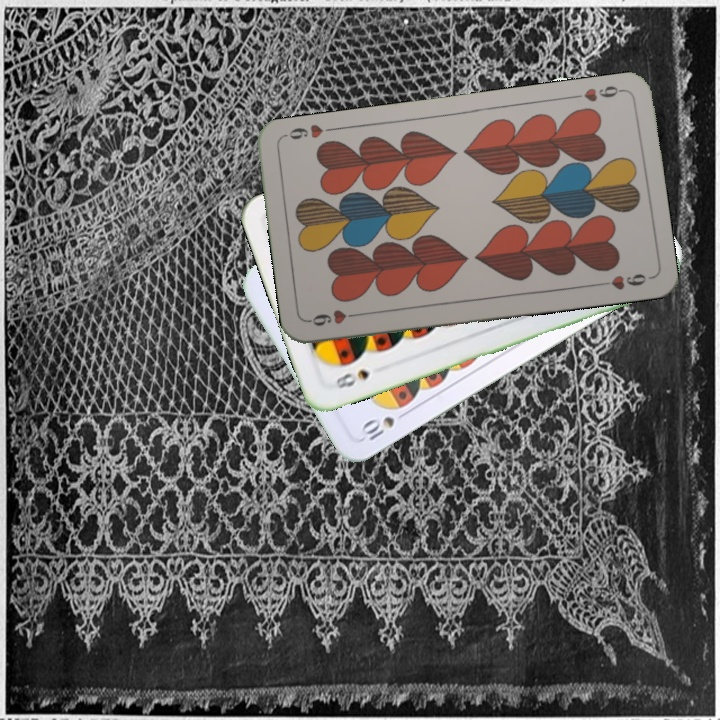H9: (305, 305, 364, 329), (568, 81, 627, 105)
S10: (357, 406, 412, 445)
S8: (332, 365, 372, 391)
